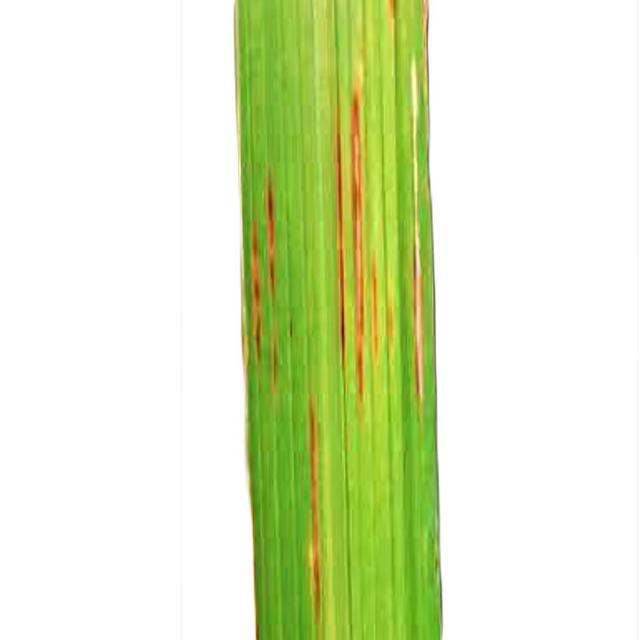Narrow brown: (210, 1, 485, 640)
